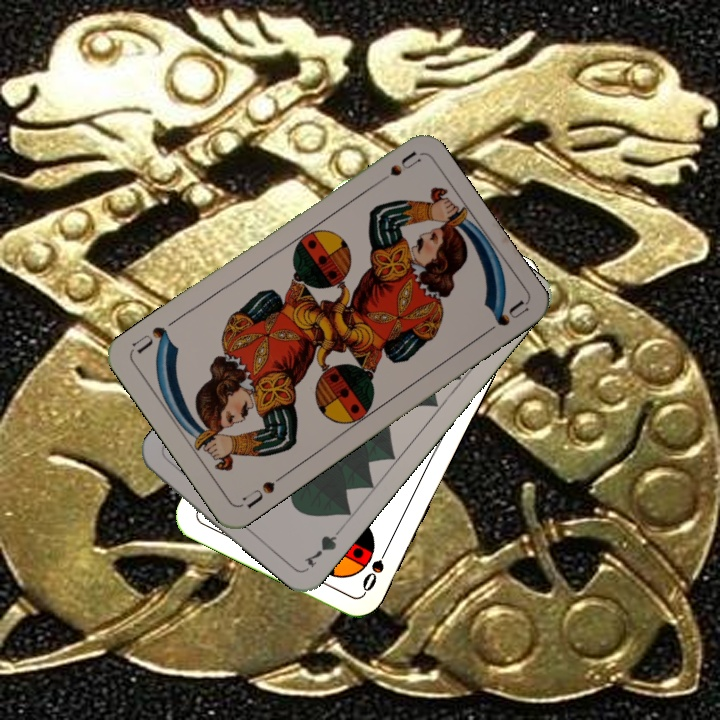G7: (299, 521, 347, 570)
SO: (358, 540, 393, 596)
SU: (368, 147, 422, 190), (242, 469, 289, 511)
